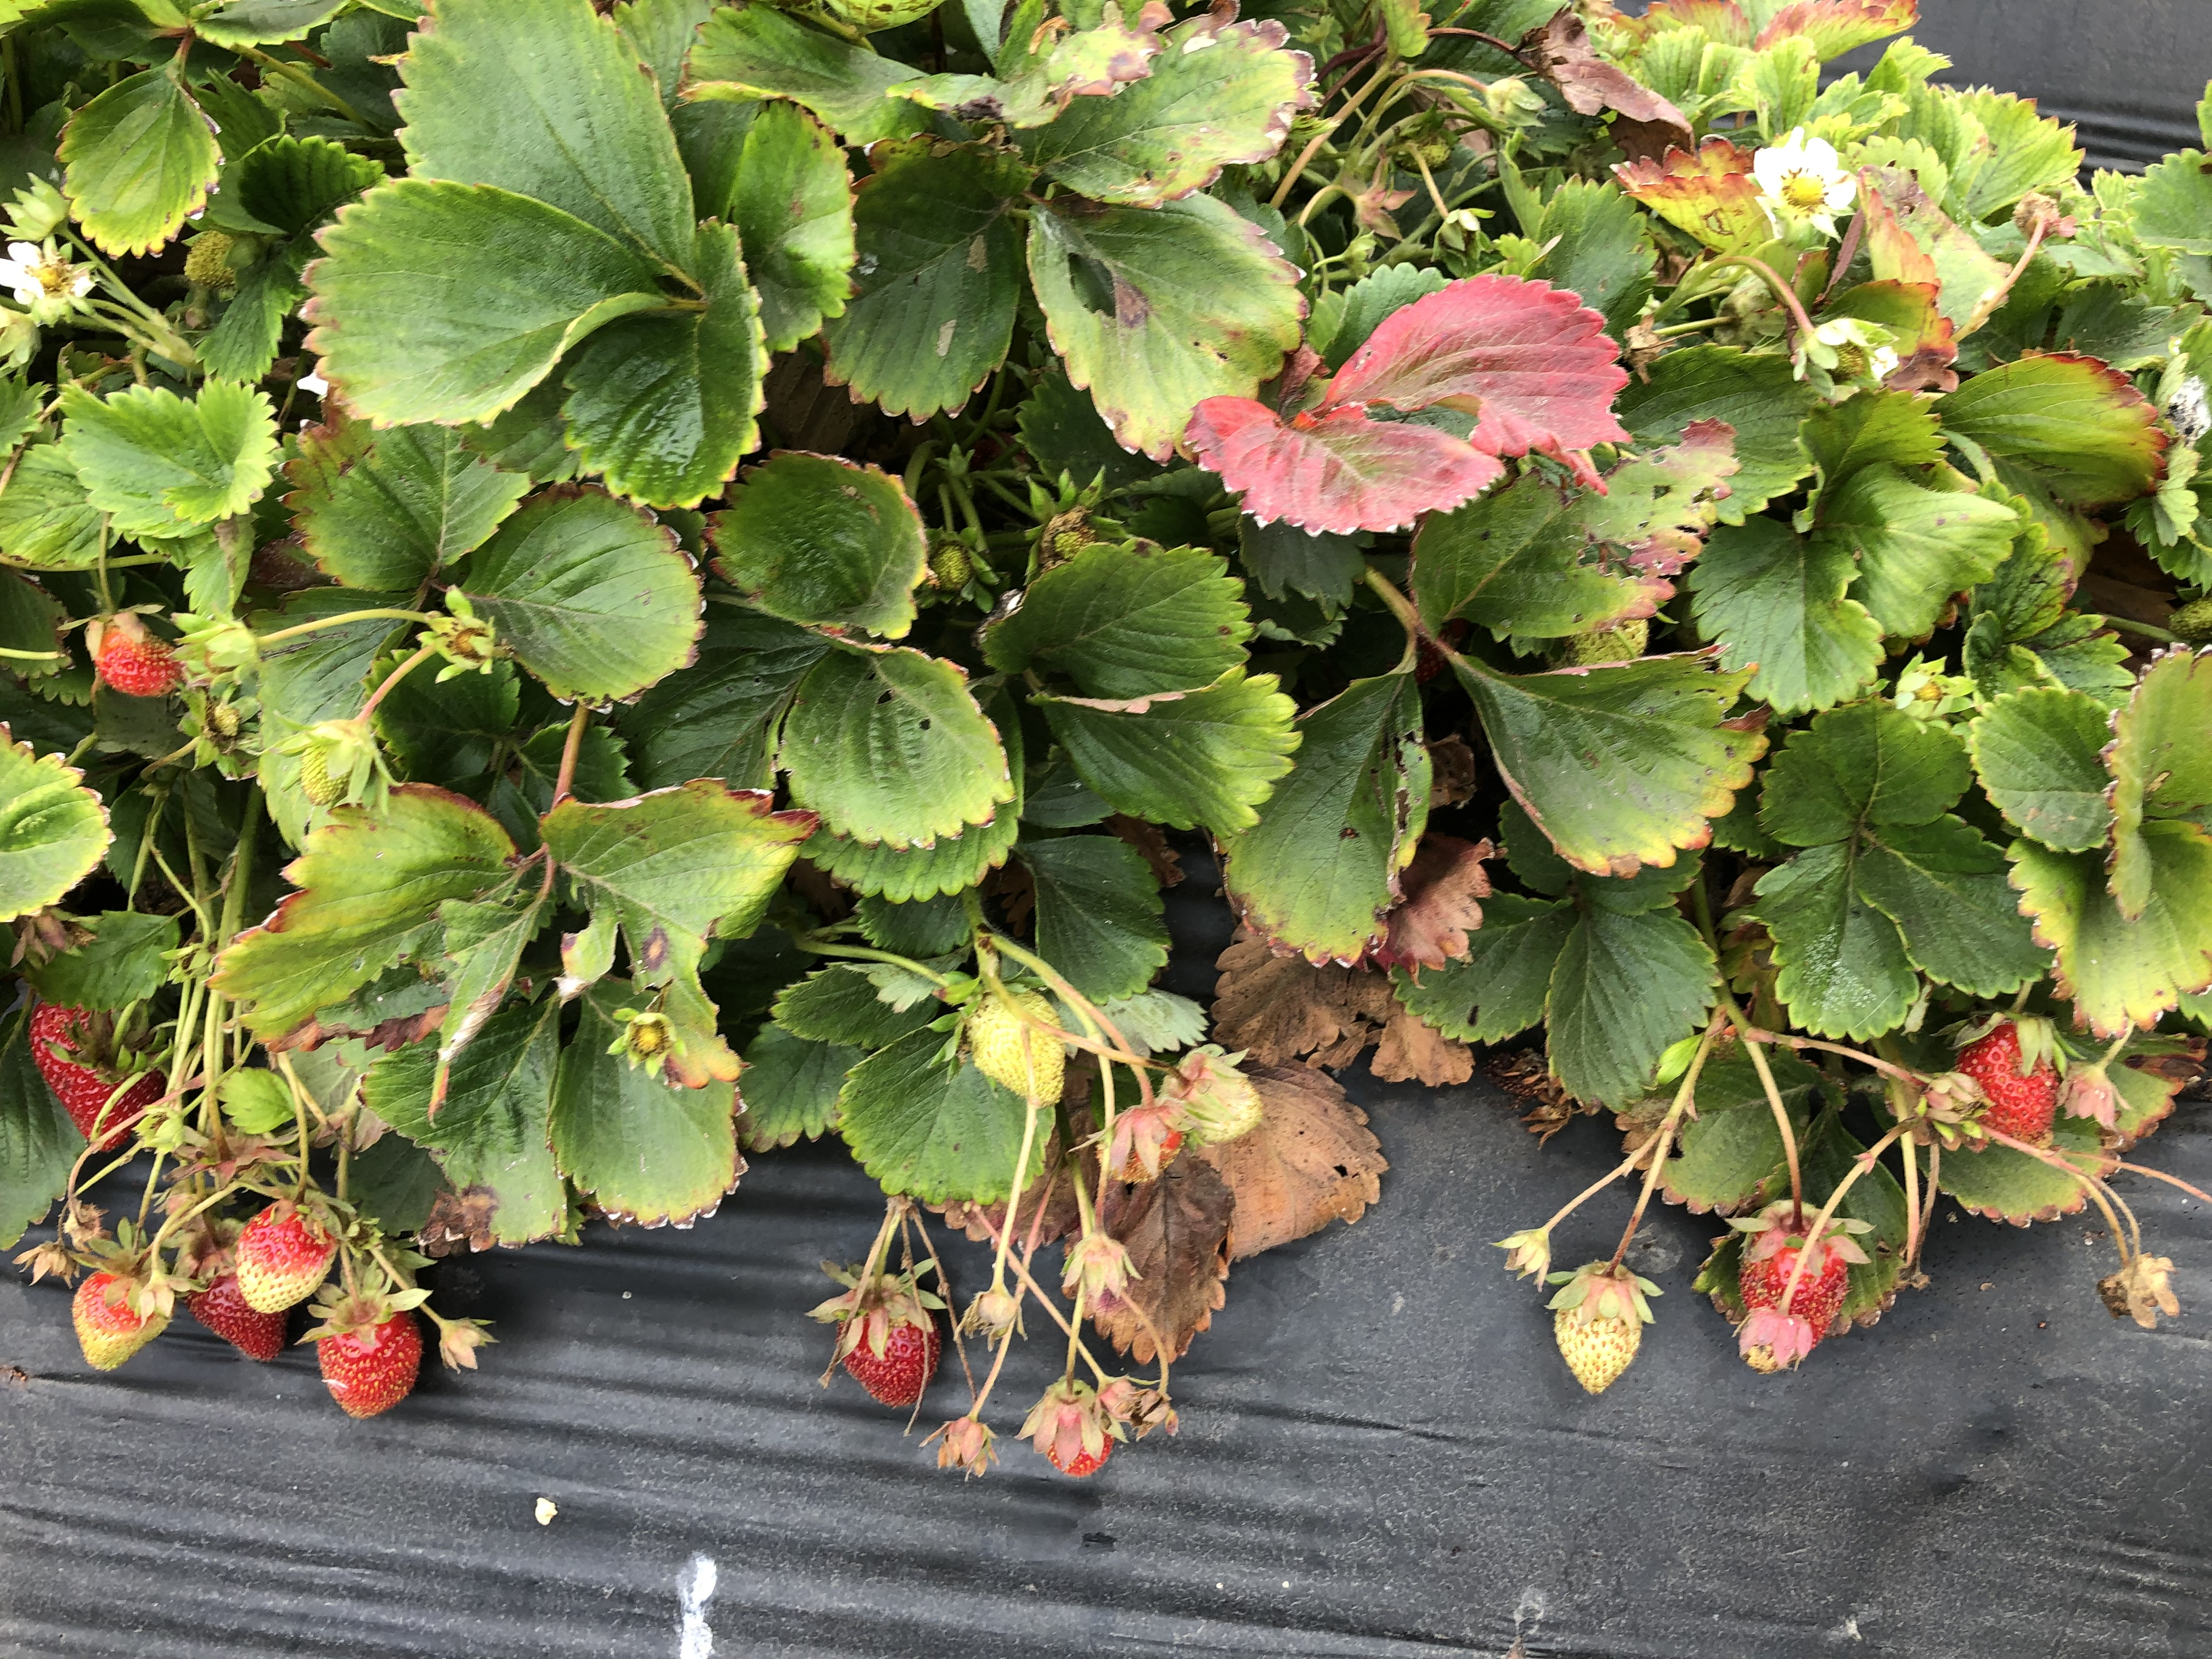ripe_strawberry: (21, 988, 169, 1162), (1737, 1195, 1858, 1359), (1954, 1007, 2060, 1152), (314, 1295, 430, 1424), (833, 1286, 949, 1408), (185, 1249, 291, 1366), (1035, 1382, 1118, 1481)
unripe_strawberry: (958, 972, 1075, 1107), (1547, 1253, 1648, 1398), (68, 1253, 179, 1378), (235, 1188, 343, 1317), (89, 603, 190, 701), (1165, 1053, 1266, 1145), (1097, 1100, 1179, 1188), (294, 718, 364, 810), (923, 537, 977, 599)
